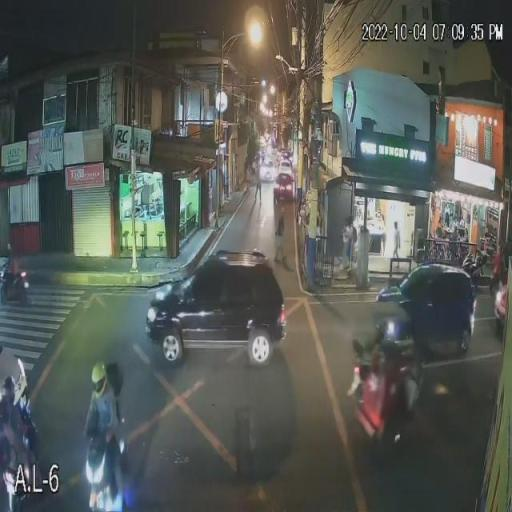helmet: (87, 361, 110, 400)
motorcycle: (82, 434, 122, 512)
rider: (87, 388, 127, 440)
